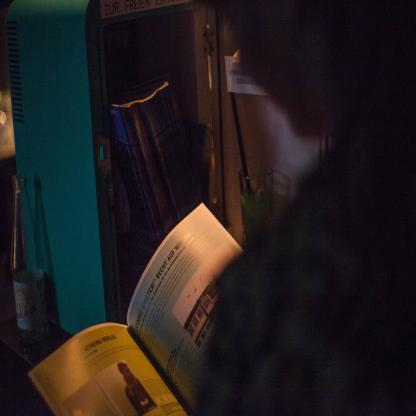book: (24, 192, 244, 416)
